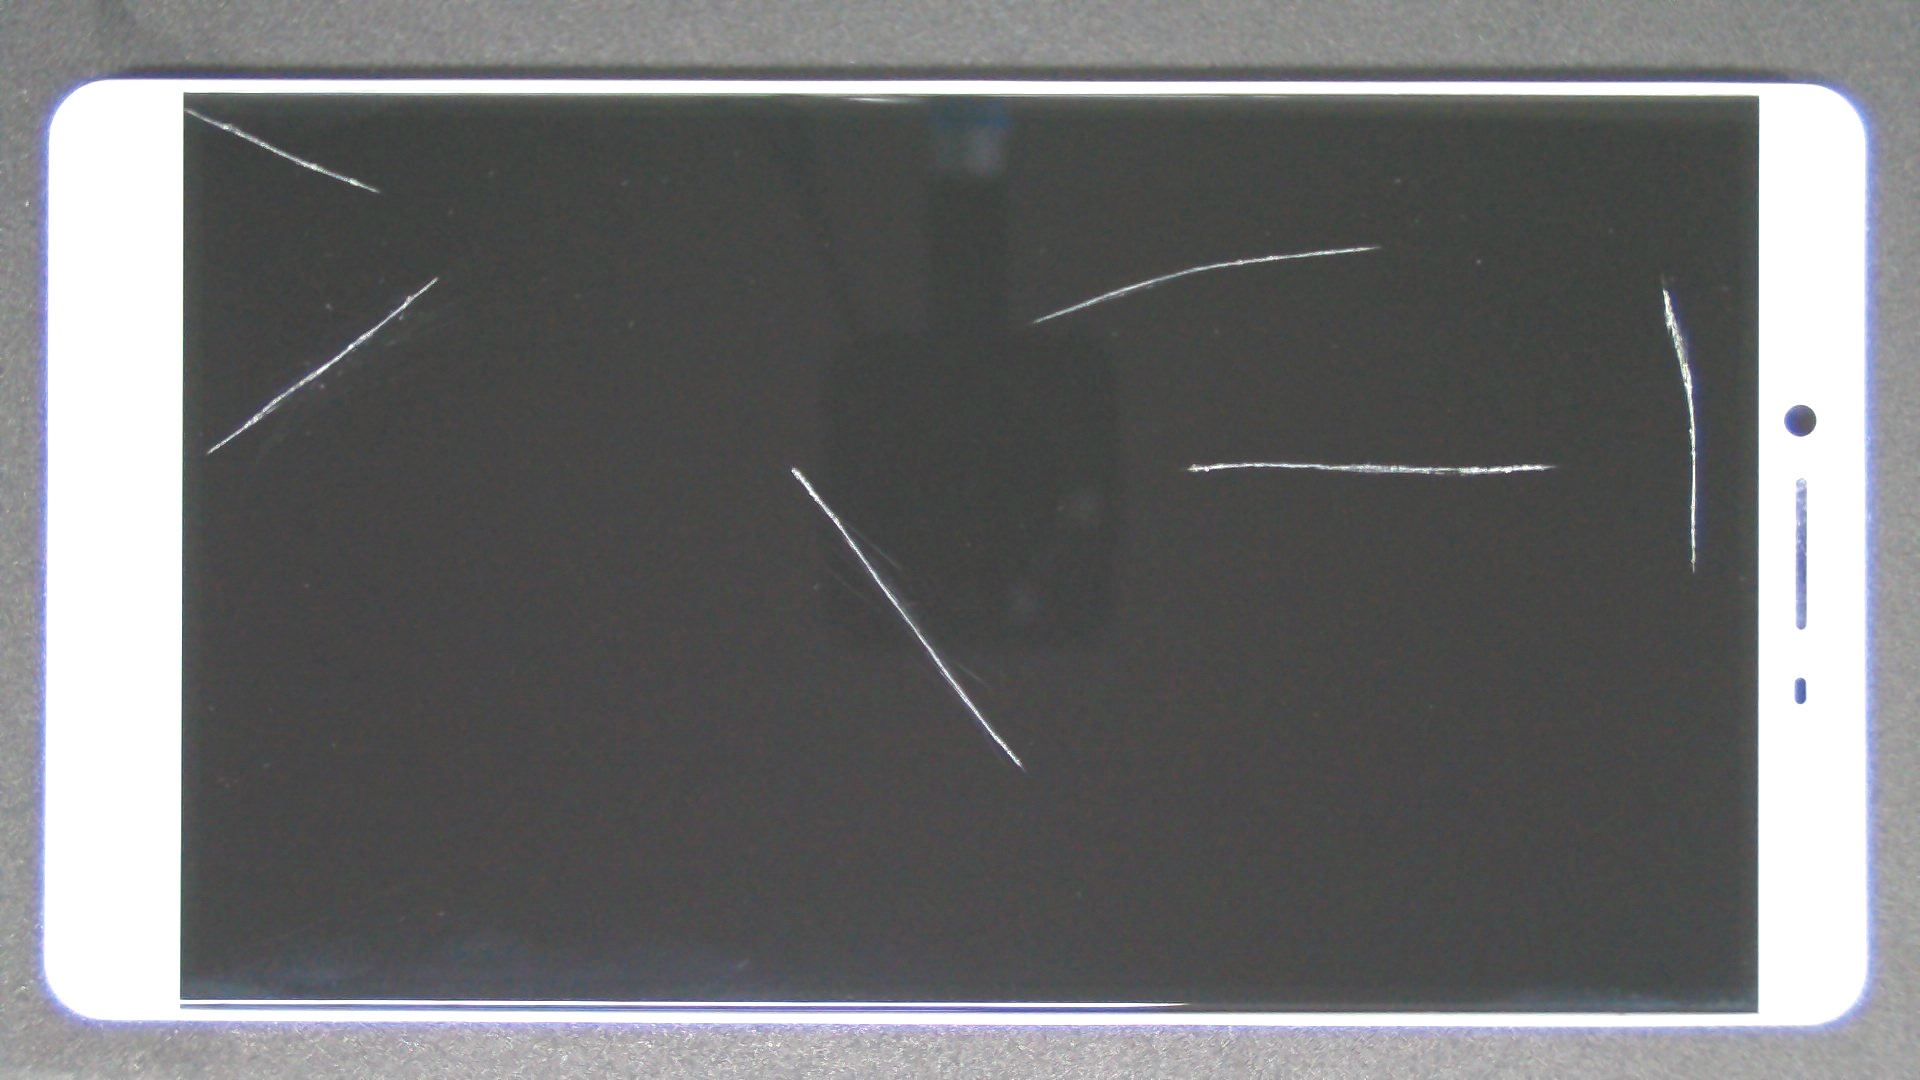oil: (616, 229, 1846, 692), (398, 231, 1189, 698), (831, 142, 1920, 431), (684, 123, 1920, 368), (219, 137, 651, 415), (94, 53, 278, 161)
